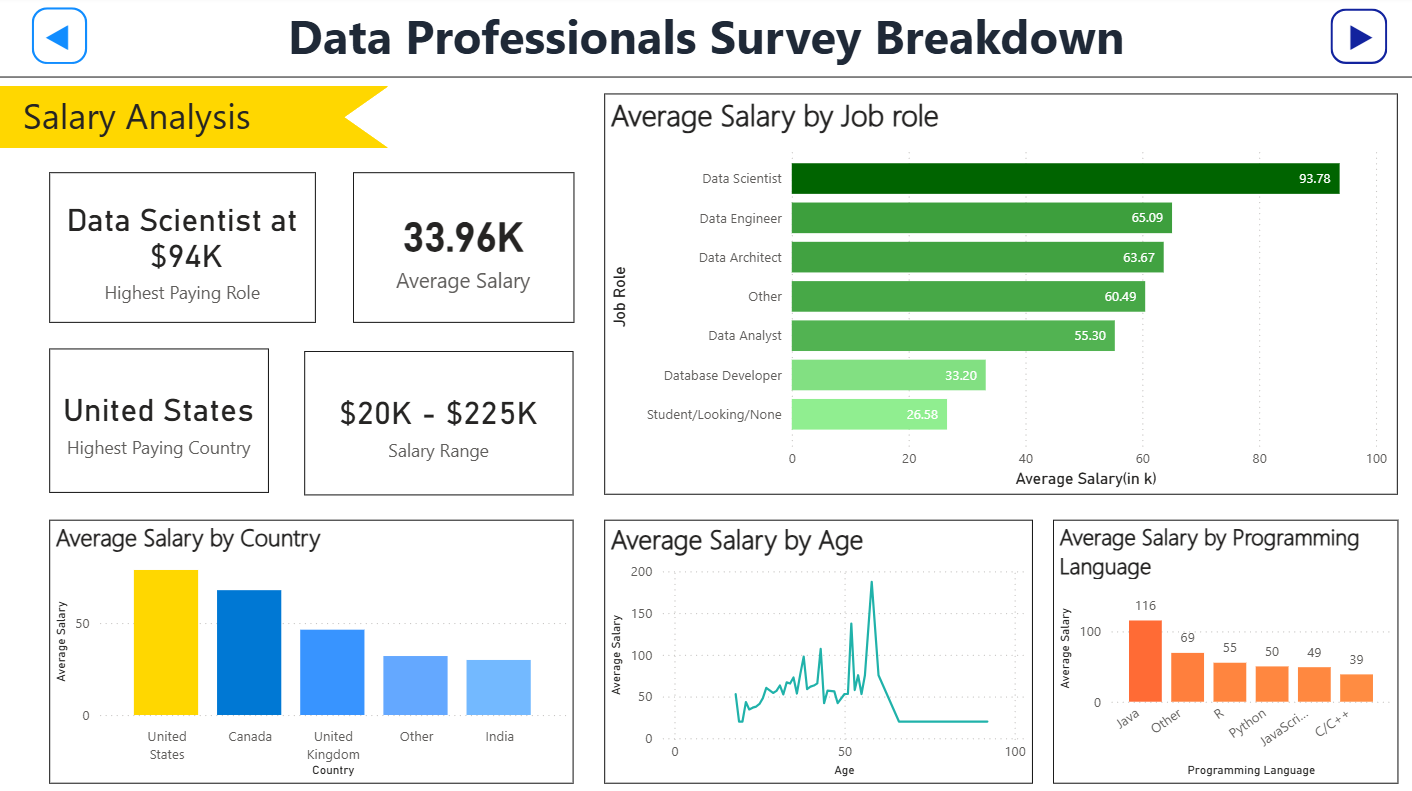

Layout of this report page (visuals, bound fields, positions):
{"tool":"powerbi","page":{"name":"Salary Analysis","canvas":[1280,720],"ordinal":1},"visuals":[{"type":"textbox","box":[0,0,1280.2,73.3],"z":0},{"type":"card","fields":{"Values":["Data Professional Survey.Highest Paying Role"]},"box":[46.3,159.5,241,136.3],"z":1000},{"type":"barChart","title":"Average Salary by Job role","fields":{"Y":["Avg(Data Professional Survey.Average Salary)"],"Category":["Data Professional Survey.Q1 - Which Title Best Fits your Current Role?"]},"box":[547.7,87.6,716.9,362.7],"z":2000},{"type":"card","fields":{"Values":["Sum(Data Professional Survey.Average Salary)"]},"box":[320.1,159.5,199.6,136.3],"z":3000},{"type":"card","fields":{"Values":["Data Professional Survey.Salary Range"]},"box":[276.3,320.1,243.4,130.2],"z":4000},{"type":"card","fields":{"Values":["Data Professional Survey.Highest Paying Country"]},"box":[46.3,318.9,198.4,130.2],"z":7000},{"type":"textbox","box":[0,81.4,351.9,56.4],"z":8000},{"type":"shape","box":[313,81.4,40.1,56.4],"z":9000},{"type":"actionButton","box":[30.1,10,50.1,51.4],"z":10000},{"type":"actionButton","box":[1203.6,11.3,51.4,50.1],"z":11000},{"type":"columnChart","fields":{"Y":["Avg(Data Professional Survey.Average Salary)"],"Category":["Data Professional Survey.Q11 - Which Country do you live in?"]},"box":[46.3,473.5,473.5,238.6],"z":12000},{"type":"lineChart","fields":{"Y":["Avg(Data Professional Survey.Average Salary)"],"Category":["Data Professional Survey.Q10 - Current Age"]},"box":[547.7,473.5,387.1,238.6],"z":13000},{"type":"clusteredColumnChart","fields":{"Category":["Data Professional Survey.Q5 - Favorite Programming Language"],"Y":["Avg(Data Professional Survey.Average Salary)"]},"box":[953.1,473.5,311.6,238.6],"z":14000}]}

Visuals, with their boxes in screenshot pixels (x1, y1, x2, y2), scaled from the page's 1280x720 canvas onto the 1412x791 screenshot:
textbox: box(0, 0, 1411, 81)
card - Data Professional Survey.Highest Paying Role: box(51, 175, 317, 325)
"Average Salary by Job role" barChart: box(604, 96, 1395, 495)
card - Sum(Data Professional Survey.Average Salary): box(353, 175, 573, 325)
card - Data Professional Survey.Salary Range: box(305, 352, 573, 495)
card - Data Professional Survey.Highest Paying Country: box(51, 350, 270, 493)
textbox: box(0, 89, 388, 151)
shape: box(345, 89, 390, 151)
actionButton: box(33, 11, 88, 67)
actionButton: box(1328, 12, 1384, 67)
columnChart - Avg(Data Professional Survey.Average Salary) x Data Professional Survey.Q11 - Which Country do you live in?: box(51, 520, 573, 782)
lineChart - Avg(Data Professional Survey.Average Salary) x Data Professional Survey.Q10 - Current Age: box(604, 520, 1031, 782)
clusteredColumnChart - Data Professional Survey.Q5 - Favorite Programming Language x Avg(Data Professional Survey.Average Salary): box(1051, 520, 1395, 782)
